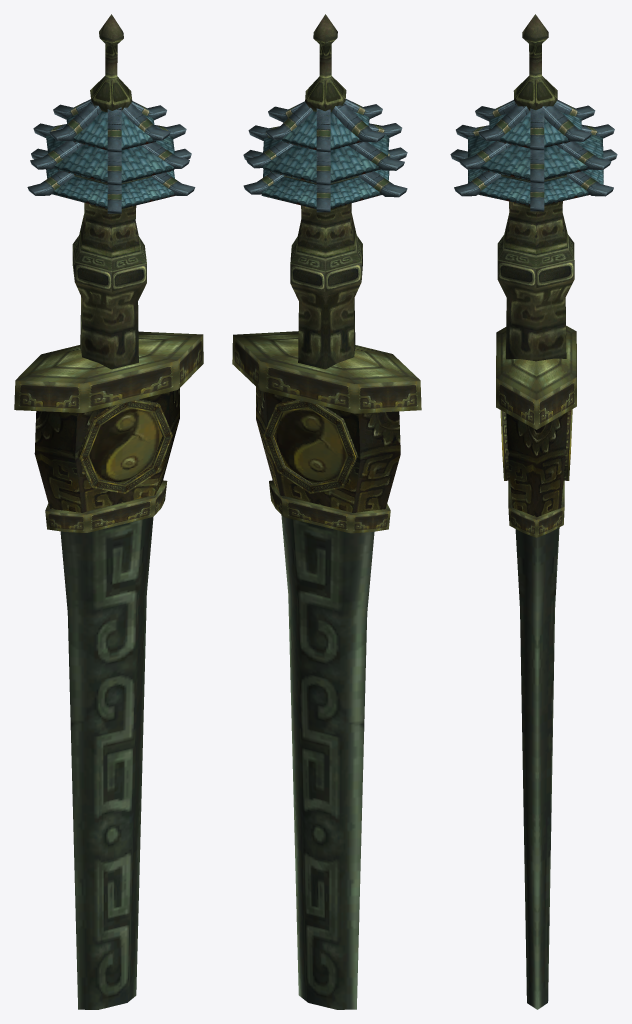
Rendered from environment_Building_shizhu_003_a.FBX.
The picture shows the model from 3 angles, left to right: view 1: azimuth 30°, elevation 25°; view 2: azimuth 150°, elevation 25°; view 3: azimuth 270°, elevation 25°; orthographic projection.
Visible parts, largest first — view 1: environment_Building_shizhu_003_d, environment_Building_shizhu_003_c, environment_Building_shizhu_003_a, environment_Building_shizhu_003_b, environment_Building_shizhu_003_e; view 2: environment_Building_shizhu_003_d, environment_Building_shizhu_003_c, environment_Building_shizhu_003_a, environment_Building_shizhu_003_b, environment_Building_shizhu_003_e; view 3: environment_Building_shizhu_003_d, environment_Building_shizhu_003_a, environment_Building_shizhu_003_b, environment_Building_shizhu_003_c, environment_Building_shizhu_003_e.
Part boxes in pixels (left/top/right/bottom): environment_Building_shizhu_003_d: left=60, top=174, right=153, bottom=1009; environment_Building_shizhu_003_c: left=14, top=331, right=203, bottom=532; environment_Building_shizhu_003_a: left=27, top=99, right=195, bottom=213; environment_Building_shizhu_003_b: left=72, top=14, right=146, bottom=369; environment_Building_shizhu_003_e: left=77, top=399, right=172, bottom=493; environment_Building_shizhu_003_d: left=281, top=175, right=374, bottom=1009; environment_Building_shizhu_003_c: left=232, top=331, right=421, bottom=533; environment_Building_shizhu_003_a: left=243, top=99, right=407, bottom=212; environment_Building_shizhu_003_b: left=290, top=14, right=362, bottom=369; environment_Building_shizhu_003_e: left=263, top=399, right=357, bottom=493; environment_Building_shizhu_003_d: left=501, top=174, right=566, bottom=1009; environment_Building_shizhu_003_a: left=450, top=100, right=617, bottom=211; environment_Building_shizhu_003_b: left=497, top=14, right=574, bottom=361; environment_Building_shizhu_003_c: left=496, top=325, right=576, bottom=537; environment_Building_shizhu_003_e: left=500, top=409, right=572, bottom=480.
Size of the model in its own units: 221 by 1104 by 170.
5 materials, 5 textured.
